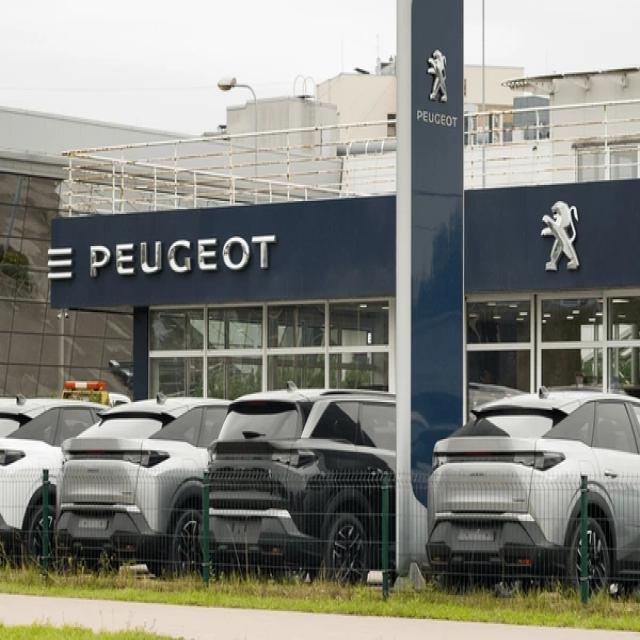pegout: (538, 197, 584, 274), (423, 42, 453, 105)
